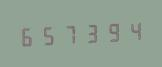five: (38, 22, 58, 48)
four: (123, 17, 143, 43)
nine: (102, 18, 122, 44)
seven: (60, 21, 80, 47)
six: (17, 23, 37, 49)
three: (81, 20, 101, 45)
